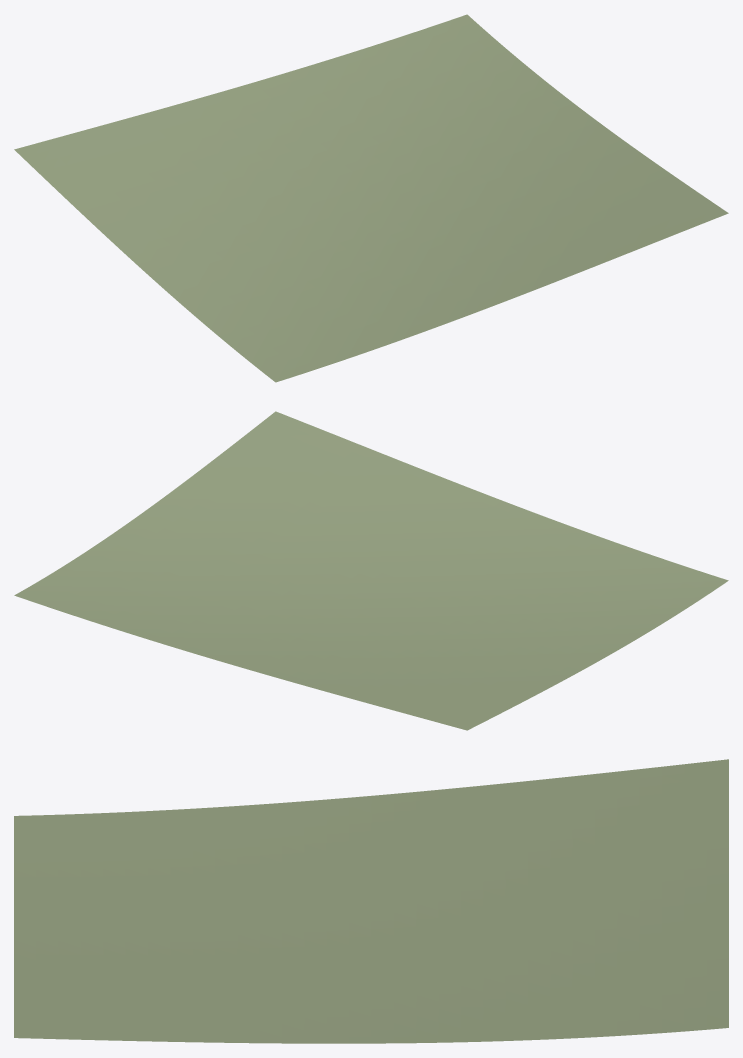
File: alpine-11-14.glb
The picture shows the model from 3 angles, top to bottom: view 1: azimuth 30°, elevation 25°; view 2: azimuth 150°, elevation 25°; view 3: azimuth 270°, elevation 25°; orthographic projection. The views are drawn at different scales.
Parts seen in each view (by area): view 1: alpine-11-14; view 2: alpine-11-14; view 3: alpine-11-14.
Boxes of the visible parts, left/top/right/bottom form: alpine-11-14: left=14, top=14, right=728, bottom=382; alpine-11-14: left=14, top=411, right=728, bottom=730; alpine-11-14: left=14, top=759, right=728, bottom=1043.
Size of the model in its own units: 256 by 35.62 by 256.
